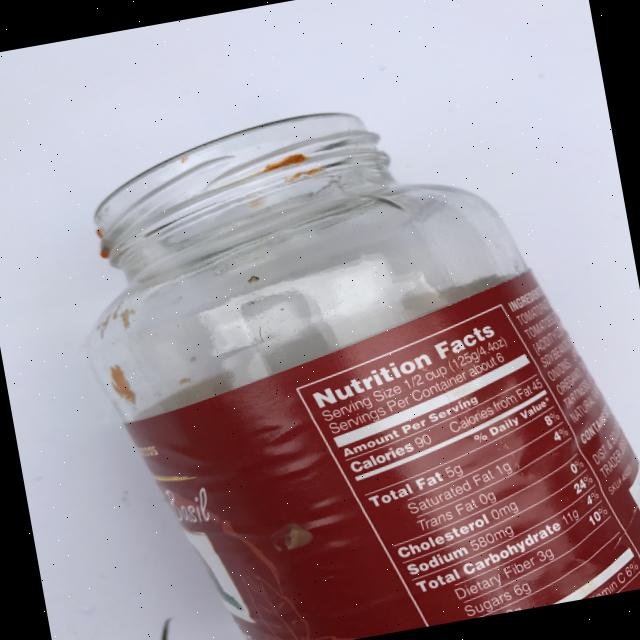glass: (51, 62, 640, 640)
